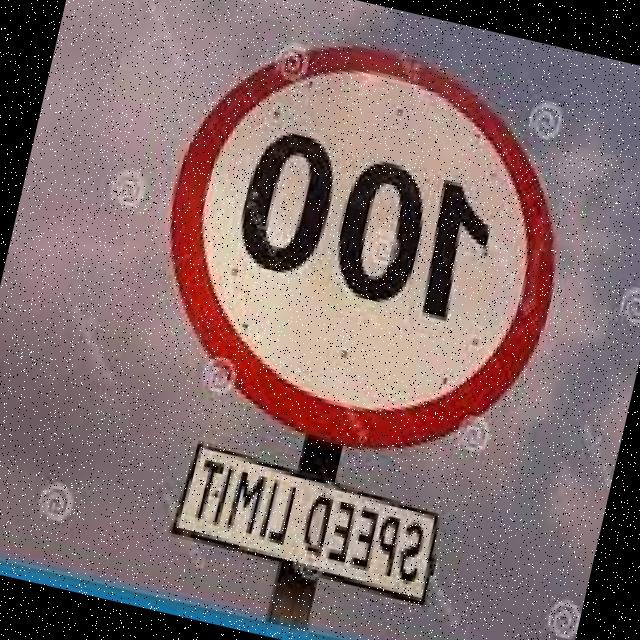speed_limit_100: (120, 11, 601, 488)
